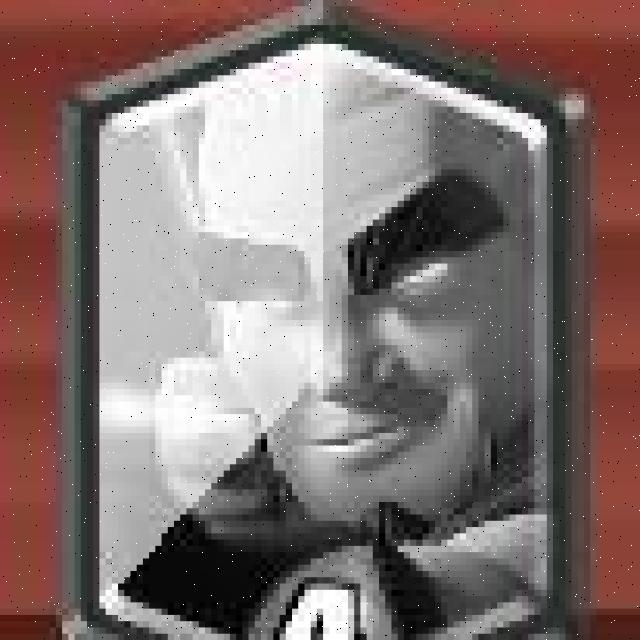Magic_Archer: (65, 0, 566, 640)
